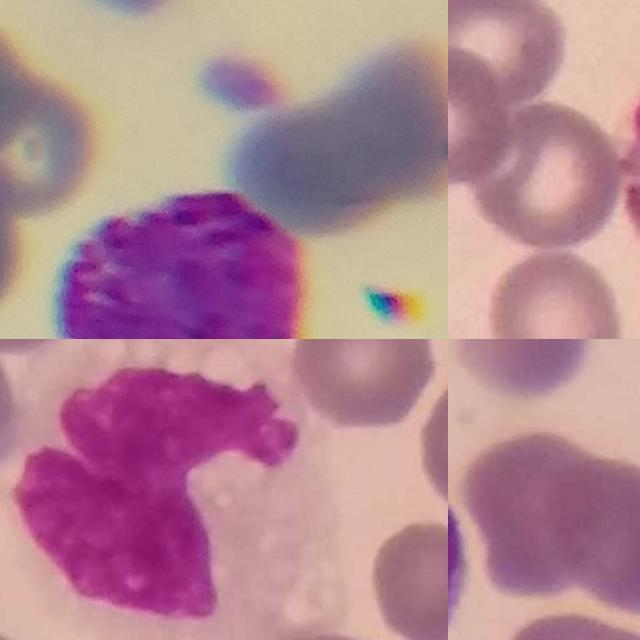Basophil: (54, 185, 304, 339)
Monocyte: (1, 339, 351, 640)
